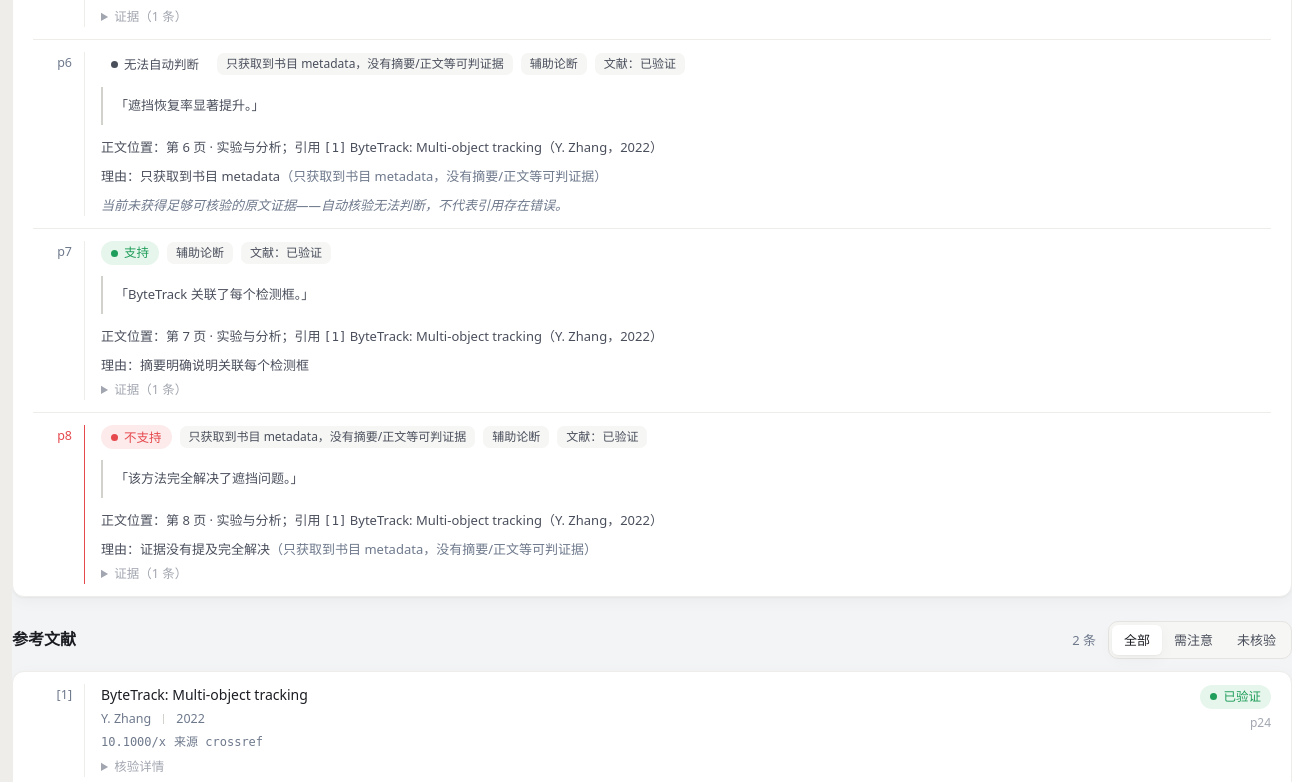
it: 语义核验明细（CitationsPanel） › 每条记录显示位置 / 论断 / 引用 / 理由（含结构化原因）/ 证据或明示无证据
This screenshot has width=1292, height=782.
(page scrolled)
expect the element with test id "claim-row" that starts with "无法自动判断" is shown: met, box [33, 40, 1271, 229]
expect the text "当前未获得足够可核验的原文证据——自动核验无法判断，不代表引用存在错误。" is shown: met, box [101, 196, 568, 214]
Note: 有证据记录：证据折叠区含来源 / 等级 / 片段
Click the heading "证据（1 条）" below "摘要明确说明关联每个检测框" at (151, 389), box [114, 381, 187, 398]
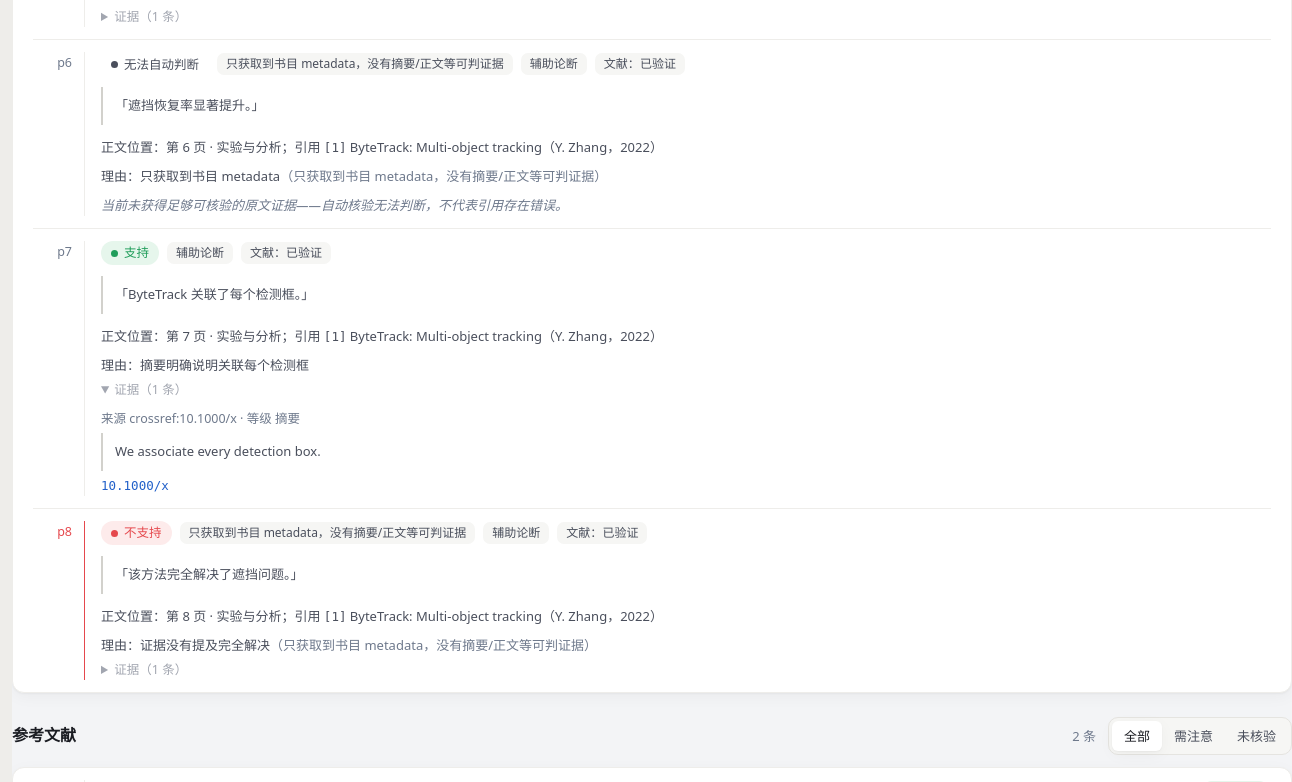
expect the text "理由：证据没有提及完全解决（只获取到书目 metadata，没有摘要/正文等可判证据）" is shown: met, box [101, 636, 597, 654]
expect the text "来源 crossref:10.1000/x · 等级 摘要" is shown: met, box [101, 410, 300, 427]
expect the text "We associate every detection box." is shown: met, box [101, 433, 1255, 471]
